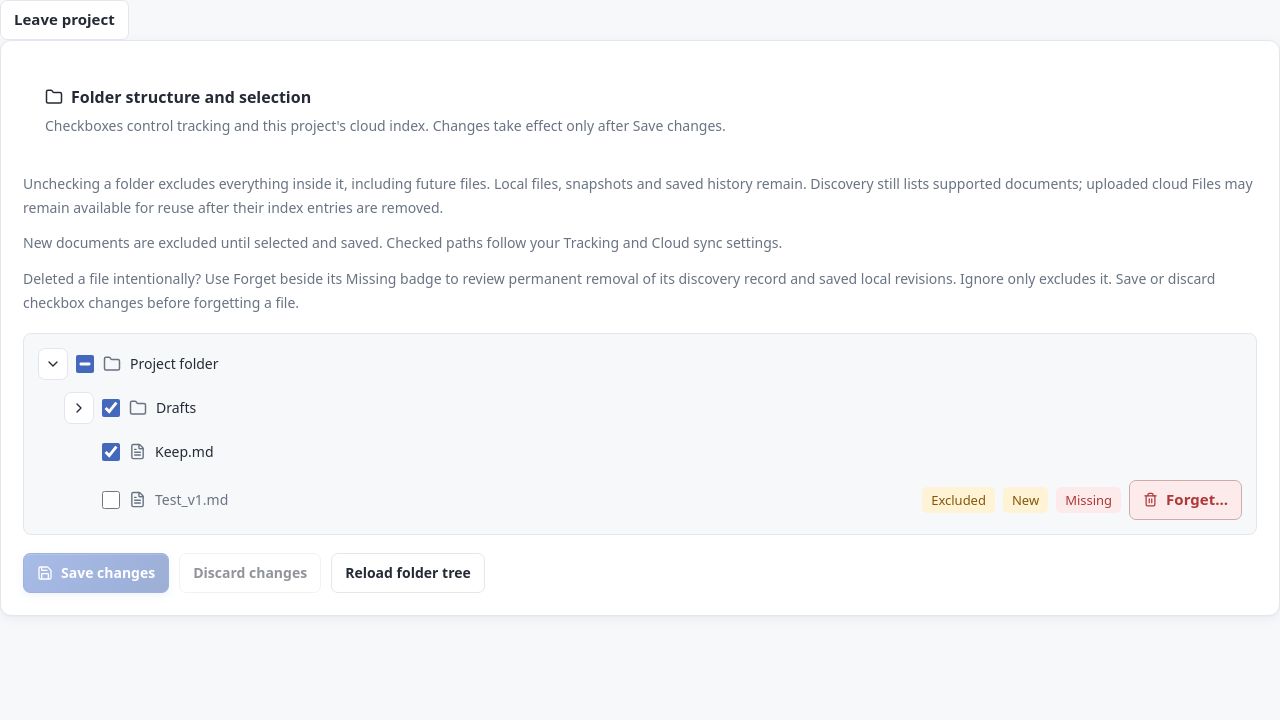
forgets a missing test file only after confirmation and removes its row
Expected: the checkbox named "Include Drafts" is enabled, [102,399,120,417]
Click the button with aria-label "Forget missing Test_v1.md".
click(1186, 500)  # box [1129,480,1242,520]
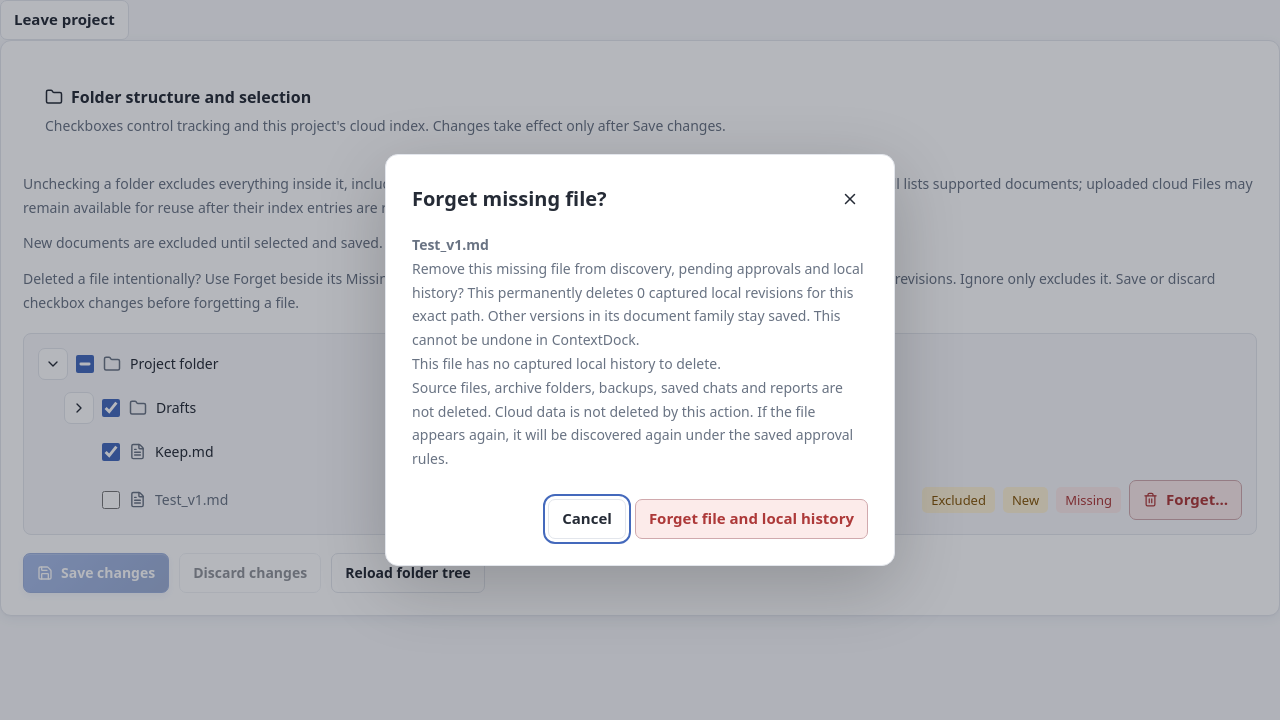
Now the dialog "Forget missing file?" shows "no captured local history", box [412,354,721,373]
Click the button "Cancel".
click(587, 519)  # box [548,499,626,539]
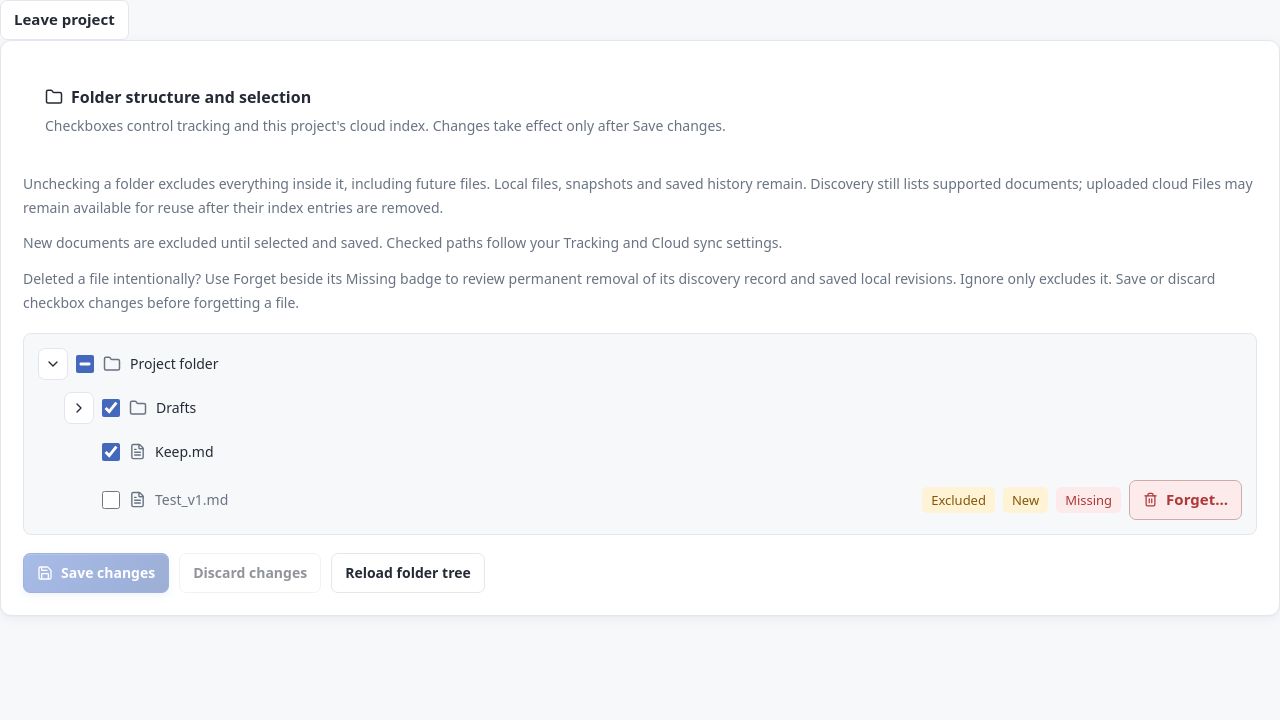
Expected: the text "Test_v1.md" is shown, [155,489,228,510]
Click the button with aria-label "Forget missing Test_v1.md".
click(1186, 500)  # box [1129,480,1242,520]
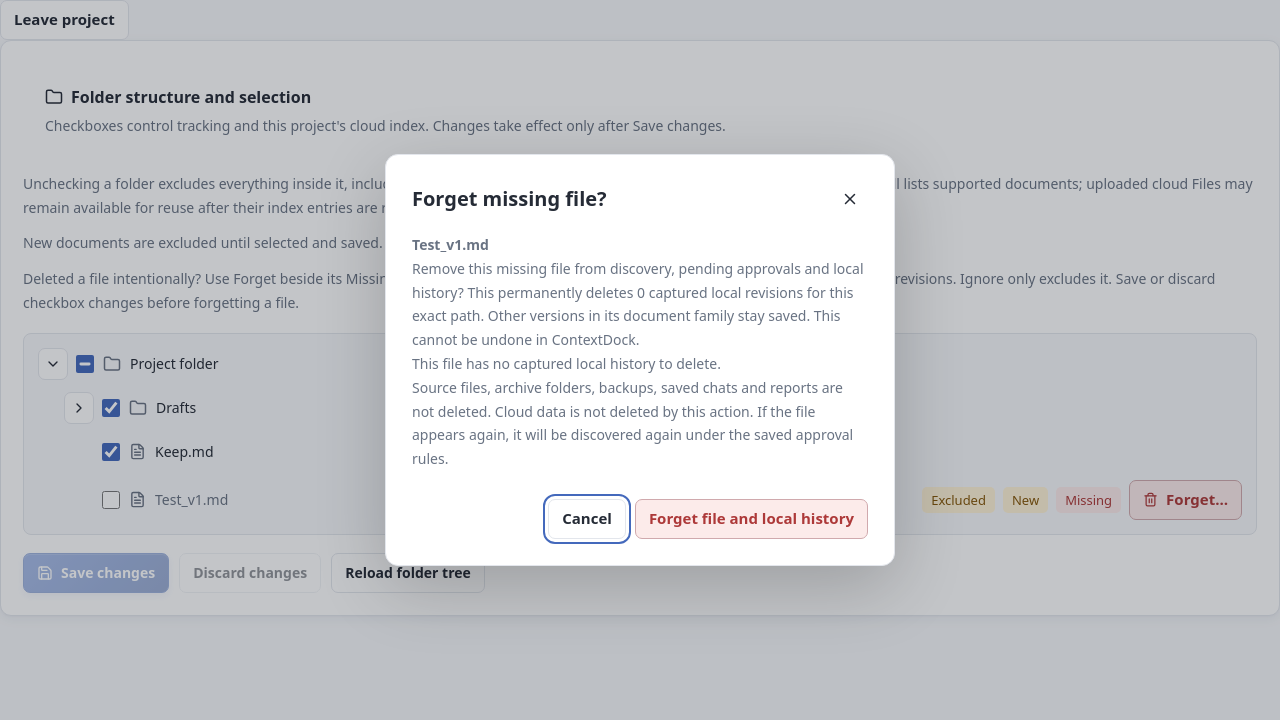
Click the button "Forget file and local history".
click(751, 519)  # box [635,499,868,539]
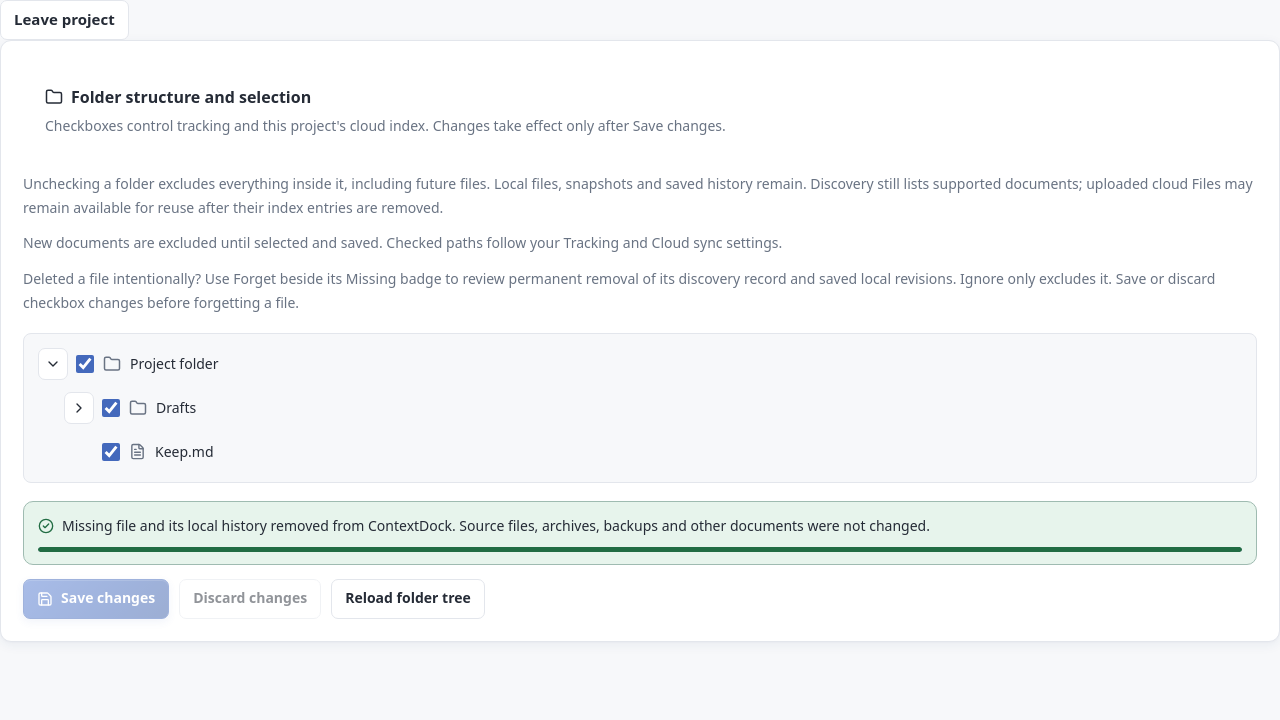
Expected: the text "Keep.md" is shown, [155,441,214,462]
Now the text "Test_v1.md" is gone
Now the dialog is gone
